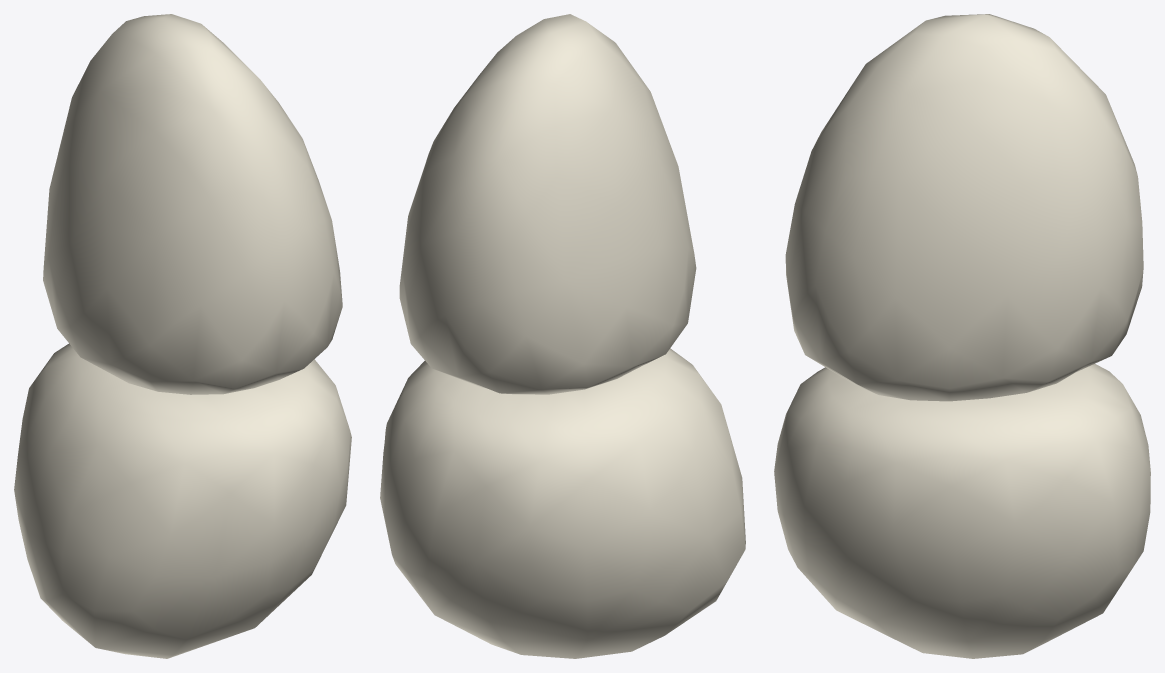
3 renders of one model, left to right at view 1: azimuth 30°, elevation 25°; view 2: azimuth 150°, elevation 25°; view 3: azimuth 270°, elevation 25°, orthographic. The views are drawn at different scales.
Parts seen in each view (by area): view 1: ZA_8f40e0ec61dd68de; view 2: ZA_8f40e0ec61dd68de; view 3: ZA_8f40e0ec61dd68de.
Part boxes in pixels (x1,y1,x2,y2): ZA_8f40e0ec61dd68de: (14, 14, 351, 658); ZA_8f40e0ec61dd68de: (380, 14, 745, 658); ZA_8f40e0ec61dd68de: (774, 14, 1150, 658).
Size of the model in its own units: 0.00719 by 0.0142 by 0.00766.
